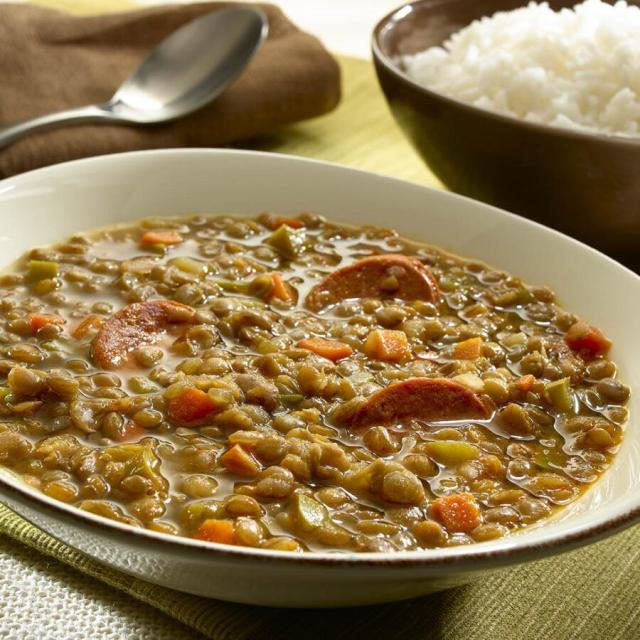lentejas: (5, 190, 632, 566)
